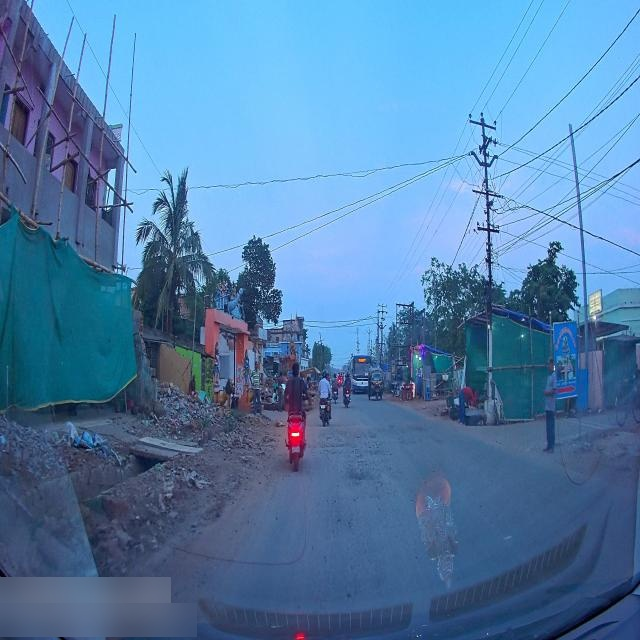pothole: (345, 465, 375, 485), (316, 436, 348, 451), (364, 440, 383, 454)
